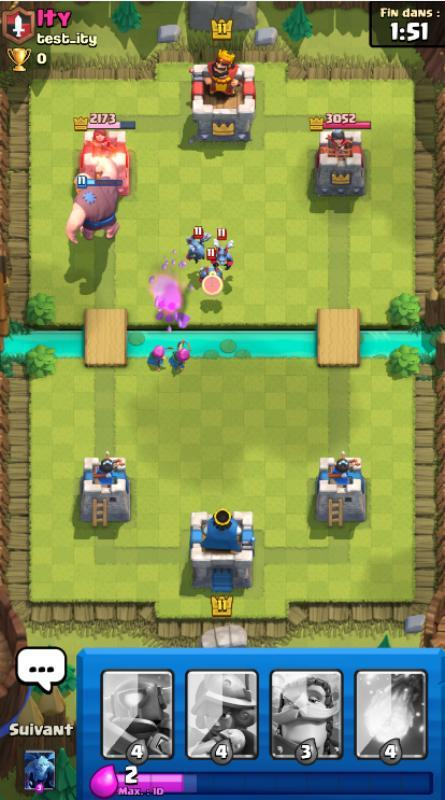archere: (168, 338, 192, 370), (146, 345, 174, 371)
gargouille: (199, 249, 224, 284)
geant: (65, 172, 123, 245)
